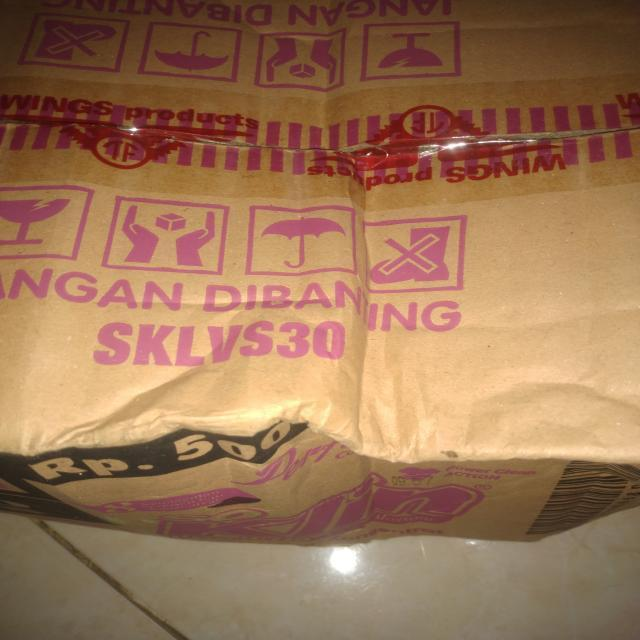box: (0, 0, 640, 548)
crushed: (230, 395, 362, 475)
